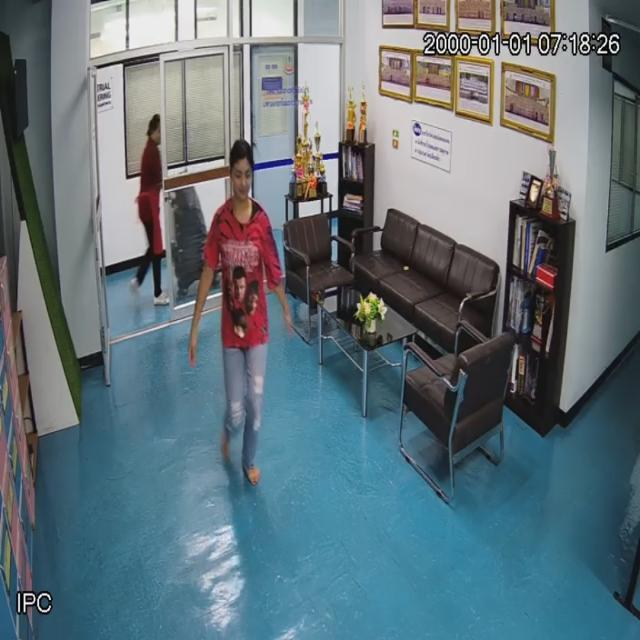normal: (212, 137, 280, 482), (127, 105, 175, 309)
